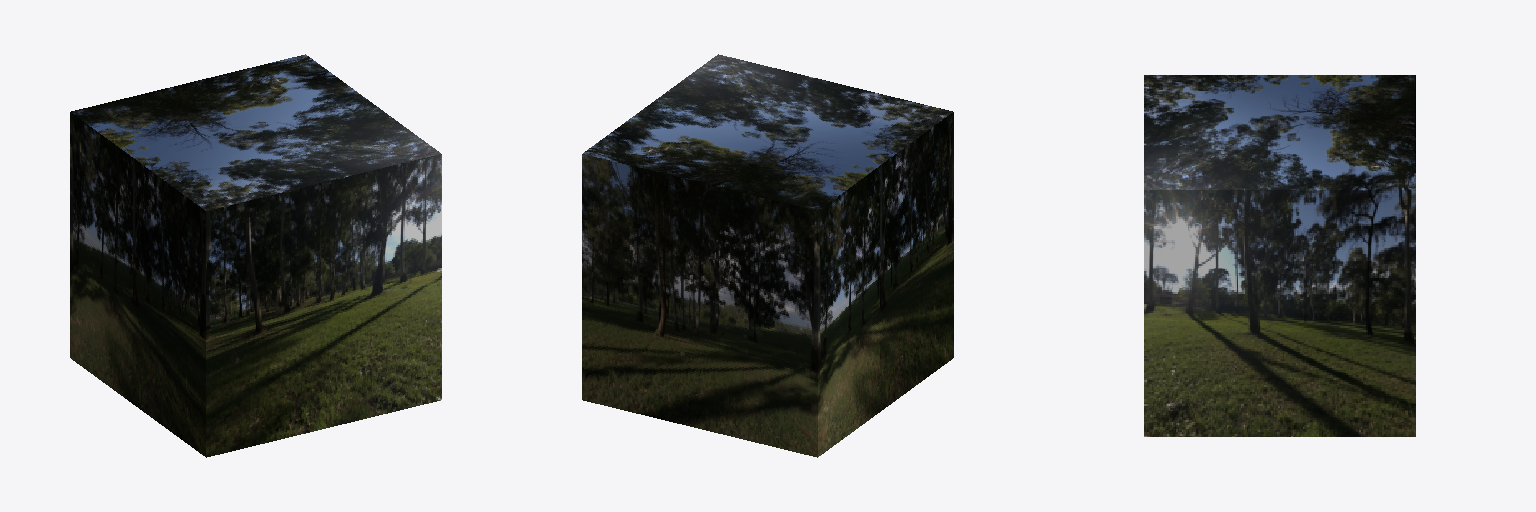
3 renders of one model, left to right at view 1: azimuth 30°, elevation 25°; view 2: azimuth 150°, elevation 25°; view 3: azimuth 270°, elevation 25°, orthographic.
Visible parts, largest first — view 1: Cube; view 2: Cube; view 3: Cube.
Boxes of the visible parts, box(x1,y1,x2,y2) form: Cube: box(70, 54, 441, 457); Cube: box(582, 54, 953, 457); Cube: box(1144, 75, 1415, 436).
Bounding box in the file's own units: 2 × 2 × 2.
Materials: 1 (1 with a texture image).